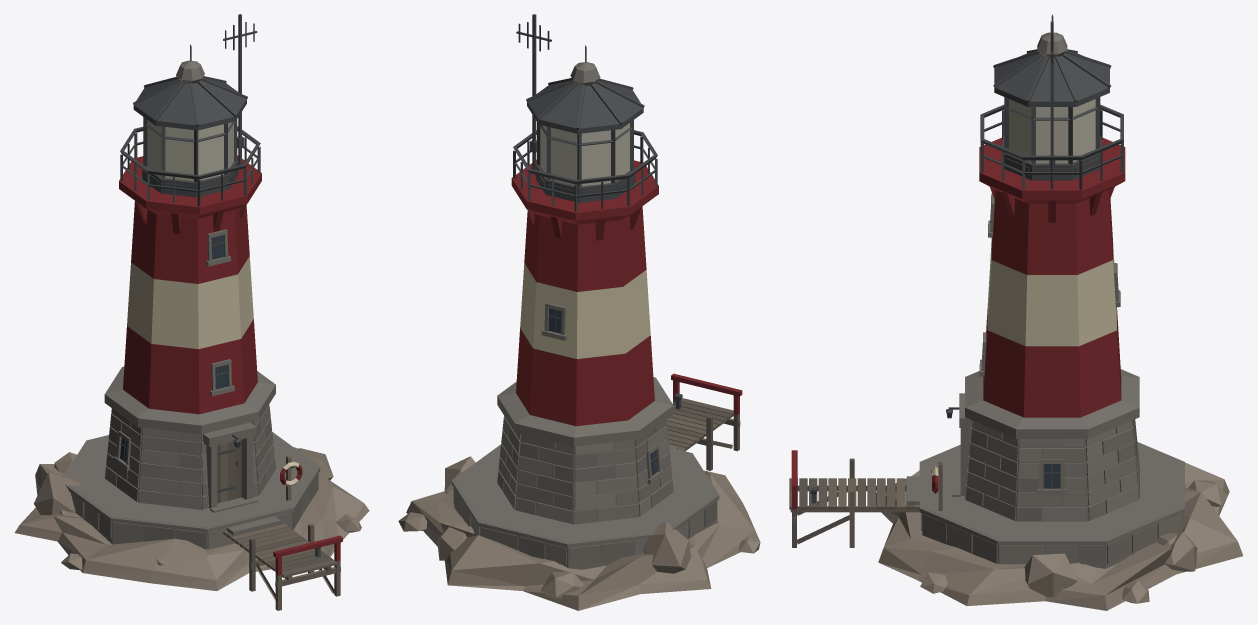
The model's file is old-lighthouse-48ca6c.glb.
3 views of the same model, side by side, from view 1: azimuth 30°, elevation 25°; view 2: azimuth 150°, elevation 25°; view 3: azimuth 270°, elevation 25° (orthographic). The views are drawn at different scales.
Parts seen in each view (by area): view 1: old-lighthouse-body, door-mesh; view 2: old-lighthouse-body; view 3: old-lighthouse-body.
Part boxes in pixels (x1,y1,x2,y2): old-lighthouse-body: [14, 14, 369, 610]; door-mesh: [217, 439, 241, 503]; old-lighthouse-body: [398, 14, 760, 610]; old-lighthouse-body: [789, 14, 1243, 610].
Size of the model in its own units: 8.85 by 13.88 by 10.66.
